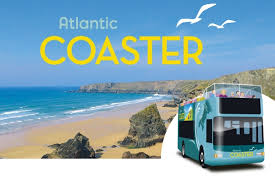bus: (177, 83, 265, 169)
